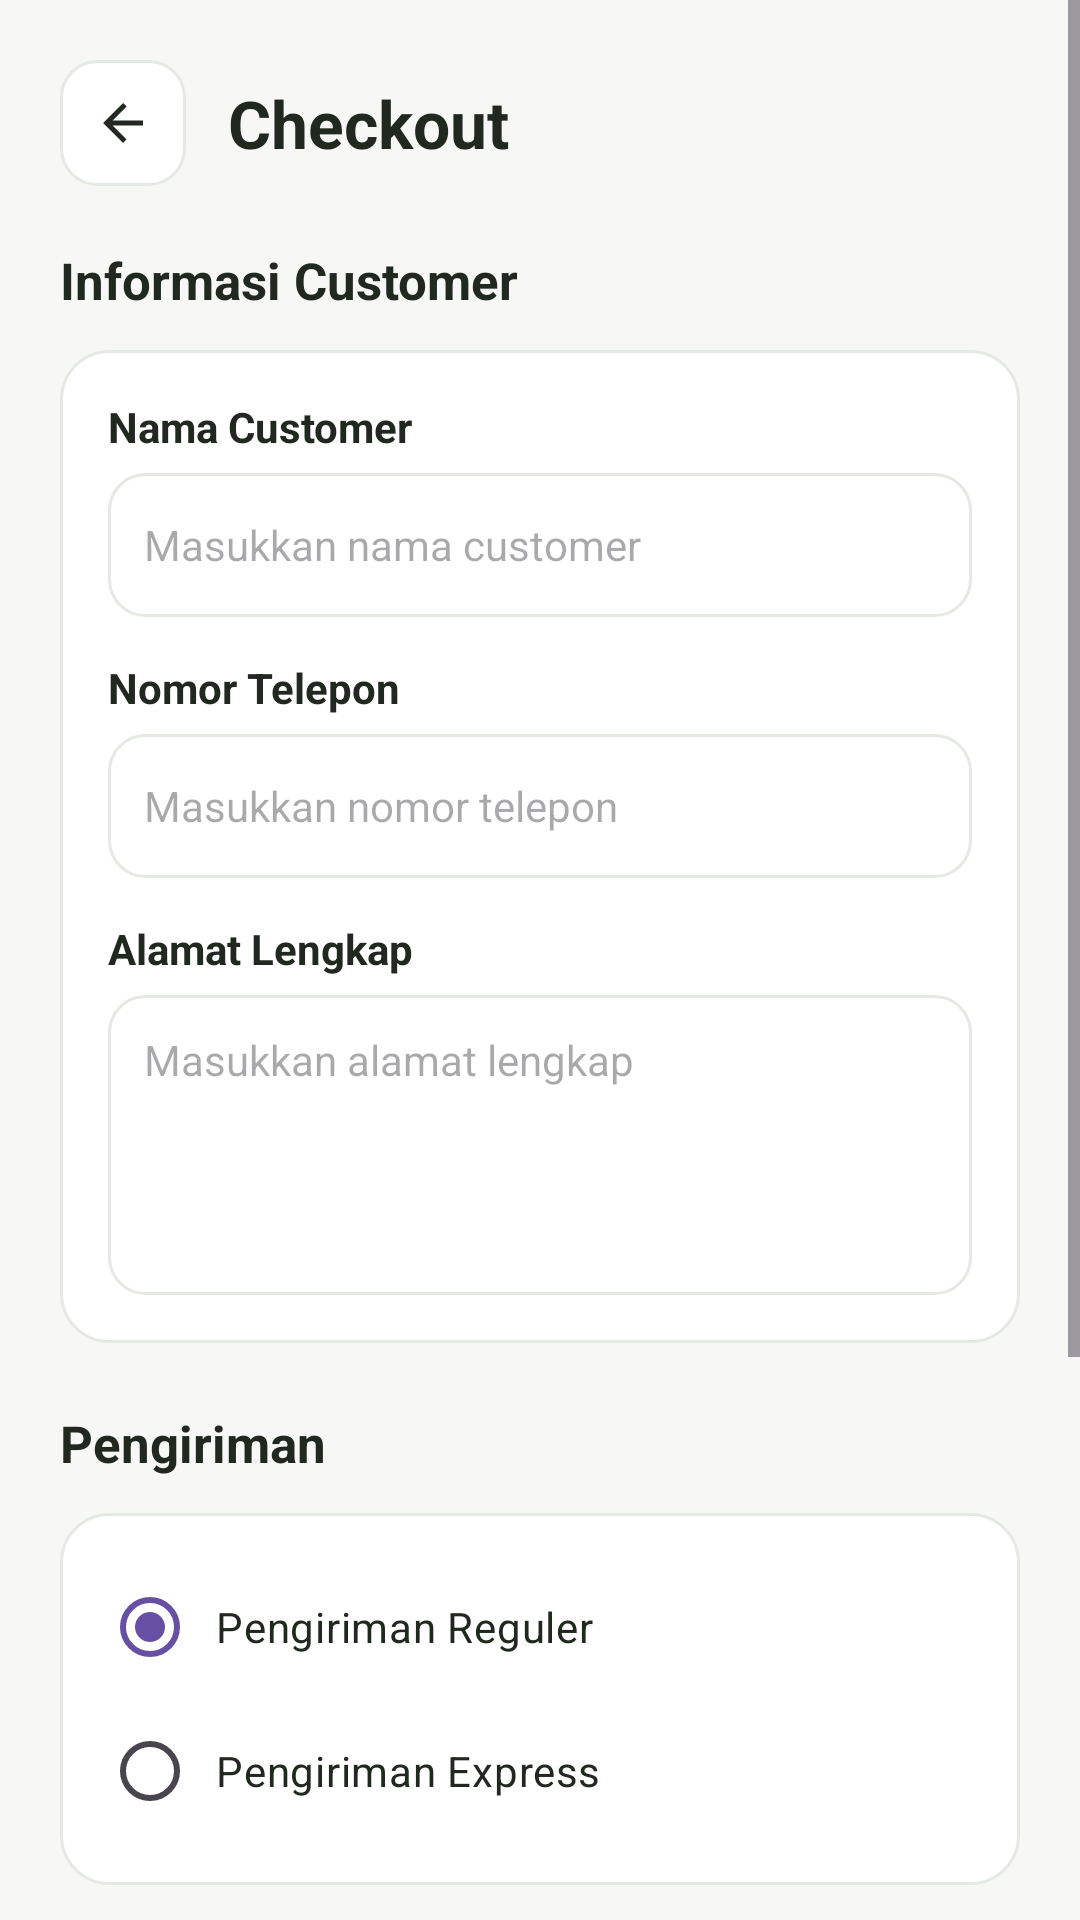

Named icons in this screenshot (1080 x 1920) and their bounding boxes, [x1=x1, y1=y1, x2=x2, y2=y2]:
Kembali: [x1=60, y1=60, x2=186, y2=186]
